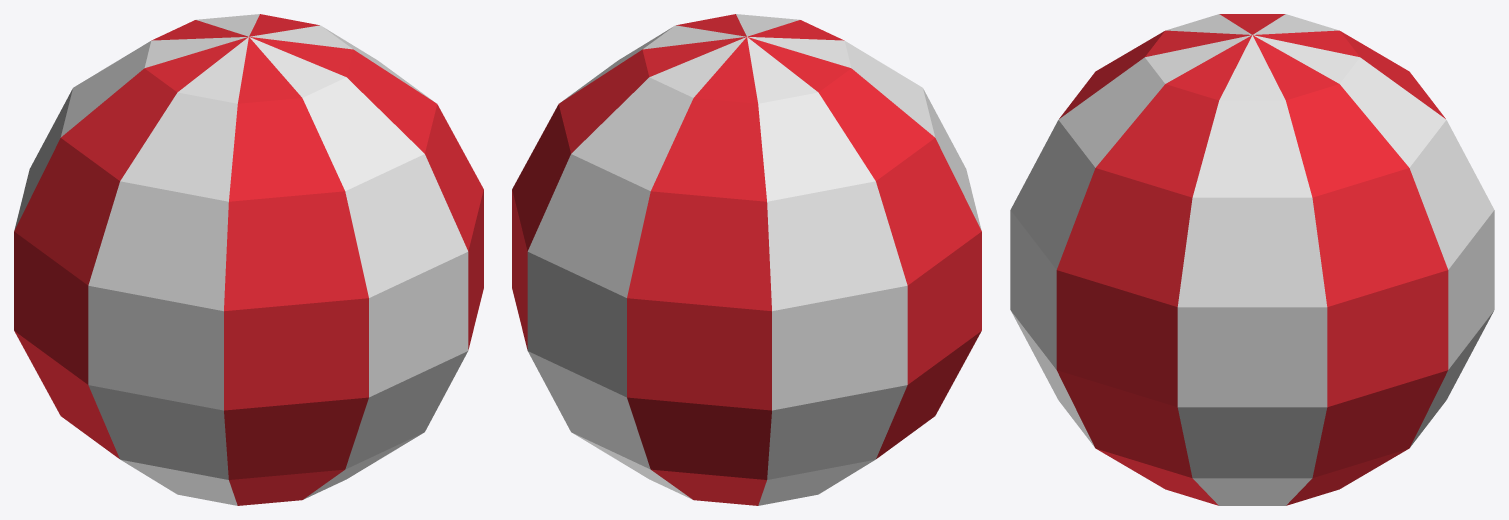
Rendered from VR_Bola.fbx.
The picture shows the model from 3 angles, left to right: view 1: azimuth 30°, elevation 25°; view 2: azimuth 150°, elevation 25°; view 3: azimuth 270°, elevation 25°; orthographic projection.
Parts seen in each view (by area): view 1: Esfera; view 2: Esfera; view 3: Esfera.
Part boxes in pixels (left/top/right/bottom): Esfera: left=14, top=14, right=483, bottom=505; Esfera: left=512, top=14, right=981, bottom=505; Esfera: left=1010, top=14, right=1494, bottom=505.
Size of the model in its own units: 111 by 120 by 117.
